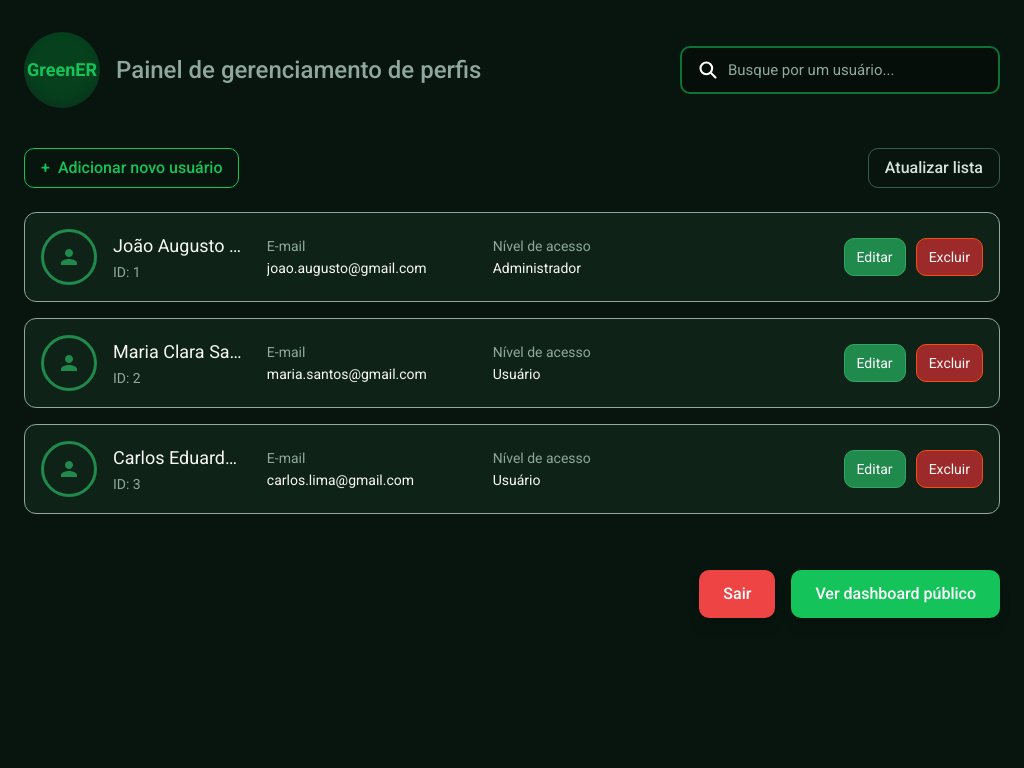
Test case: painel administrativo integrado › filtra usuários pelo nome ou e-mail digitado
Type "Carlos" into the field with placeholder "Busque por um usuário..." at (863, 70), box [728,48,998,92]
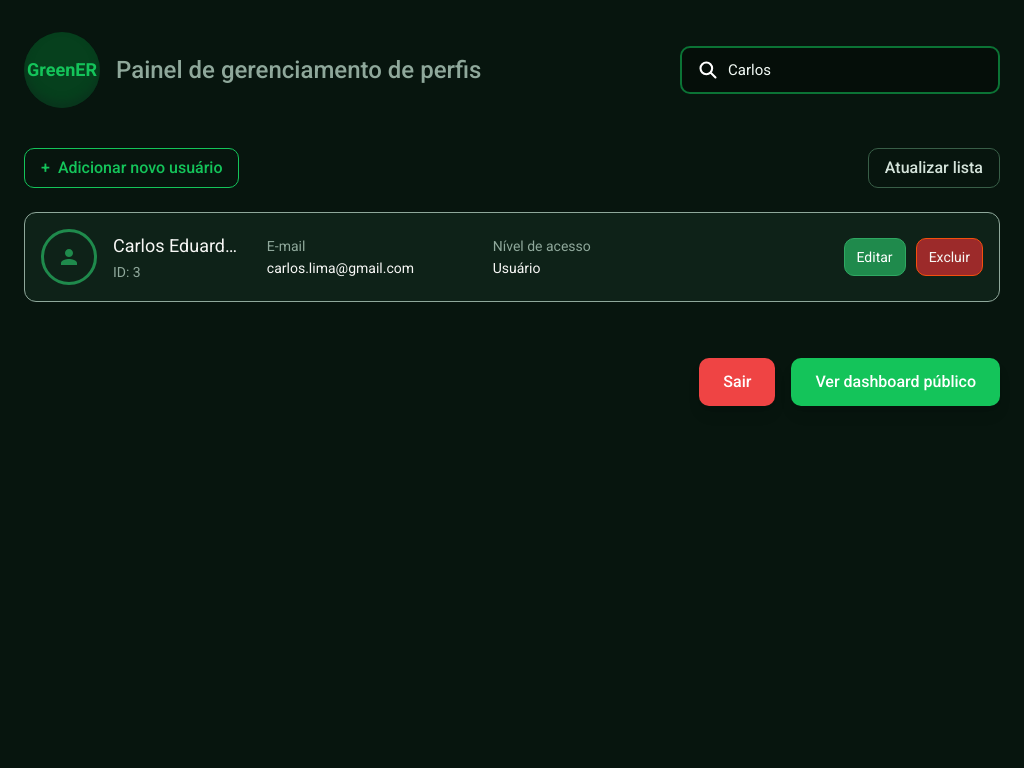
Expected: the text "Carlos Eduardo Lima" is shown, [113,232,243,260]
Result: the text "João Augusto de Souza" is gone
